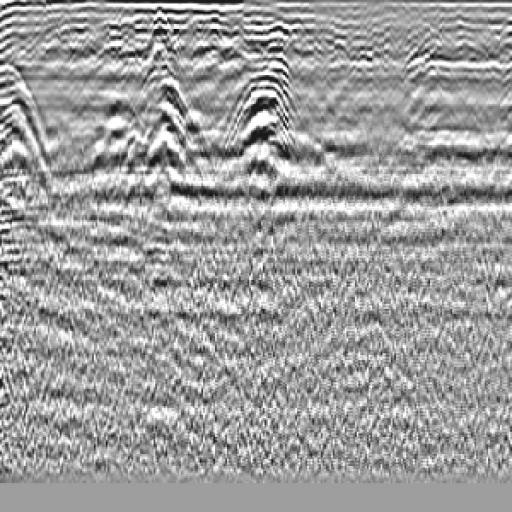metalic: (95, 14, 211, 244)
nonmetalic: (217, 29, 316, 174), (1, 36, 81, 212)
